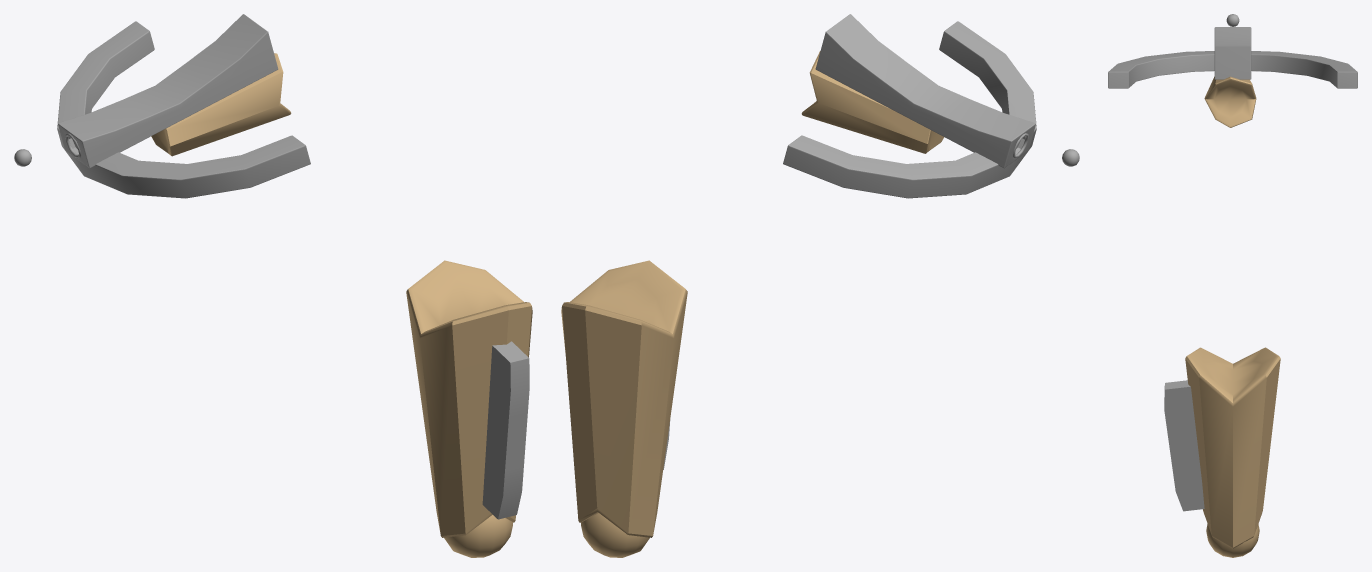
The model's file is mode_sniper.fbx.
3 views of the same model, side by side, from view 1: azimuth 30°, elevation 25°; view 2: azimuth 150°, elevation 25°; view 3: azimuth 270°, elevation 25° (orthographic). The views are drawn at different scales.
Parts seen in each view (by area): view 1: RightUpLeg, sweep1, pCube1, pCube2, RightForeArm, RightLeg1; view 2: RightUpLeg, sweep1, pCube1, RightForeArm, RightLeg1; view 3: RightUpLeg, sweep1, pCube2, RightForeArm, pCube1, RightLeg1.
Part boxes in pixels (bbox=[...]): RightUpLeg: bbox=[406, 260, 532, 537]; sweep1: bbox=[57, 21, 310, 198]; pCube1: bbox=[58, 14, 278, 168]; pCube2: bbox=[482, 341, 529, 519]; RightForeArm: bbox=[151, 53, 291, 156]; RightLeg1: bbox=[444, 515, 512, 557]; RightUpLeg: bbox=[561, 260, 687, 537]; sweep1: bbox=[783, 21, 1036, 198]; pCube1: bbox=[815, 14, 1035, 168]; RightForeArm: bbox=[801, 51, 943, 153]; RightLeg1: bbox=[581, 513, 649, 557]; RightUpLeg: bbox=[1185, 347, 1280, 548]; sweep1: bbox=[1108, 51, 1357, 88]; pCube2: bbox=[1164, 380, 1204, 511]; RightForeArm: bbox=[1204, 76, 1256, 127]; pCube1: bbox=[1214, 27, 1251, 79]; RightLeg1: bbox=[1206, 524, 1259, 557].
Bounding box in the file's own units: 17.9 × 19.36 × 10.2.
